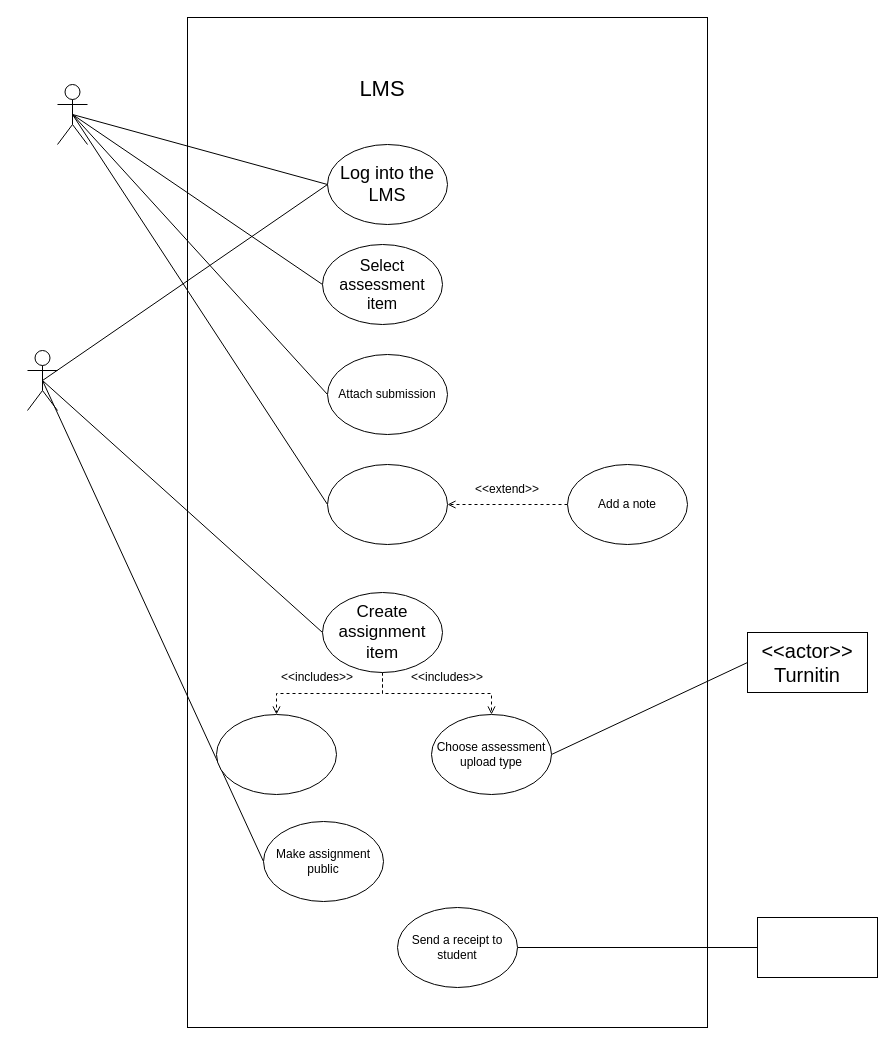
The diagram is 895 pixels wide and 1045 high, and some of its shapes have lost their labels. Here are the shapes that lost their labels. From the top down, the centre of each, then its label:
At point 72,114: "Student".
At point 42,380: "Instructor".
At point 387,504: "Confirm submission".
At point 276,754: "Upload instructions as PDF".
At point 817,947: "<<actor>> Email service".
